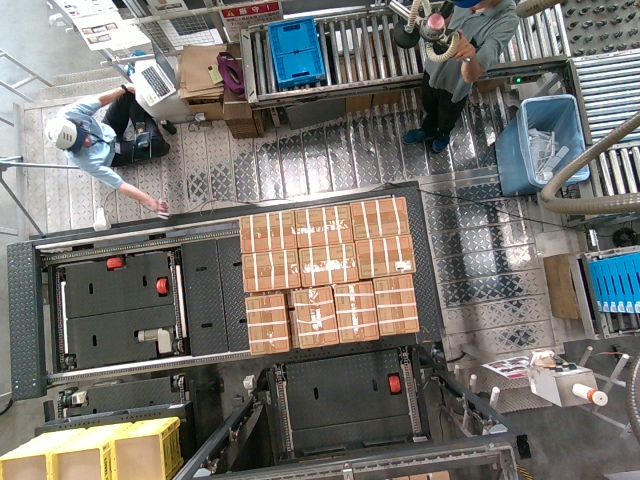box: (245, 293, 289, 351), (293, 289, 337, 347), (334, 281, 378, 339), (372, 274, 416, 332), (236, 213, 296, 252), (293, 206, 353, 245), (350, 197, 410, 236), (356, 238, 416, 277), (297, 247, 357, 286), (238, 249, 298, 288)
